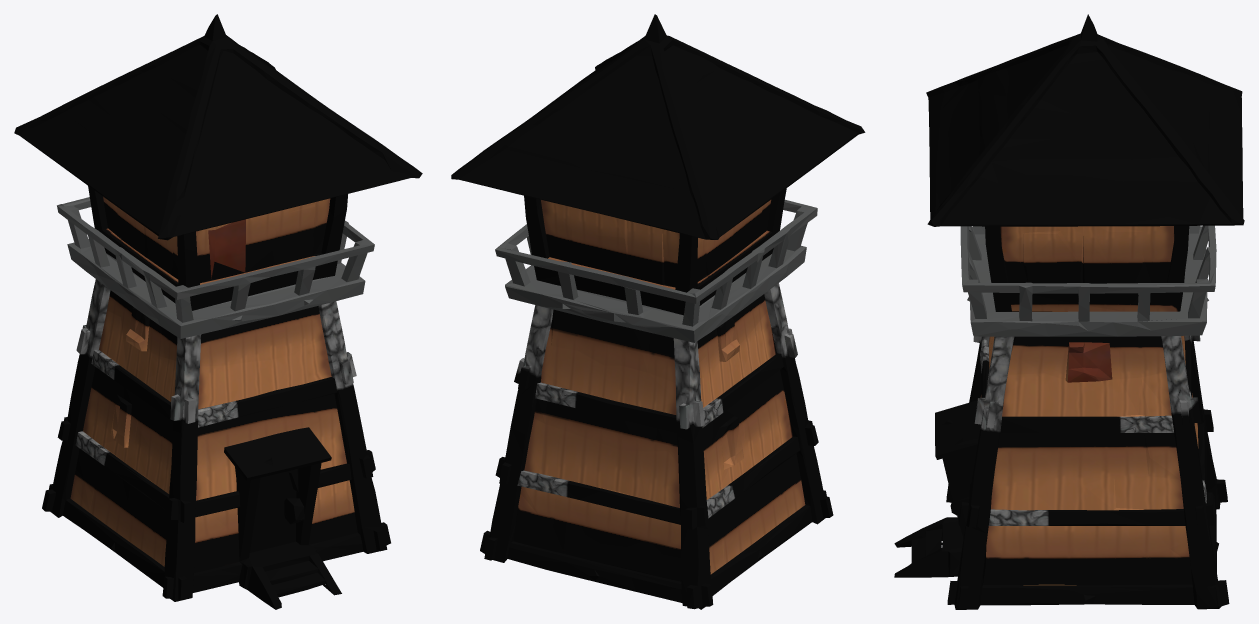
Rendered from Tower01.fbx.
3 renders of one model, left to right at view 1: azimuth 30°, elevation 25°; view 2: azimuth 150°, elevation 25°; view 3: azimuth 270°, elevation 25°, orthographic. The views are drawn at different scales.
Parts seen in each view (by area): view 1: Tower; view 2: Tower; view 3: Tower.
Part boxes in pixels (left/top/right/bottom): Tower: left=14, top=14, right=422, bottom=609; Tower: left=451, top=14, right=865, bottom=609; Tower: left=894, top=14, right=1244, bottom=609.
Bounding box in the file's own units: 4.46 × 8.35 × 4.84.
